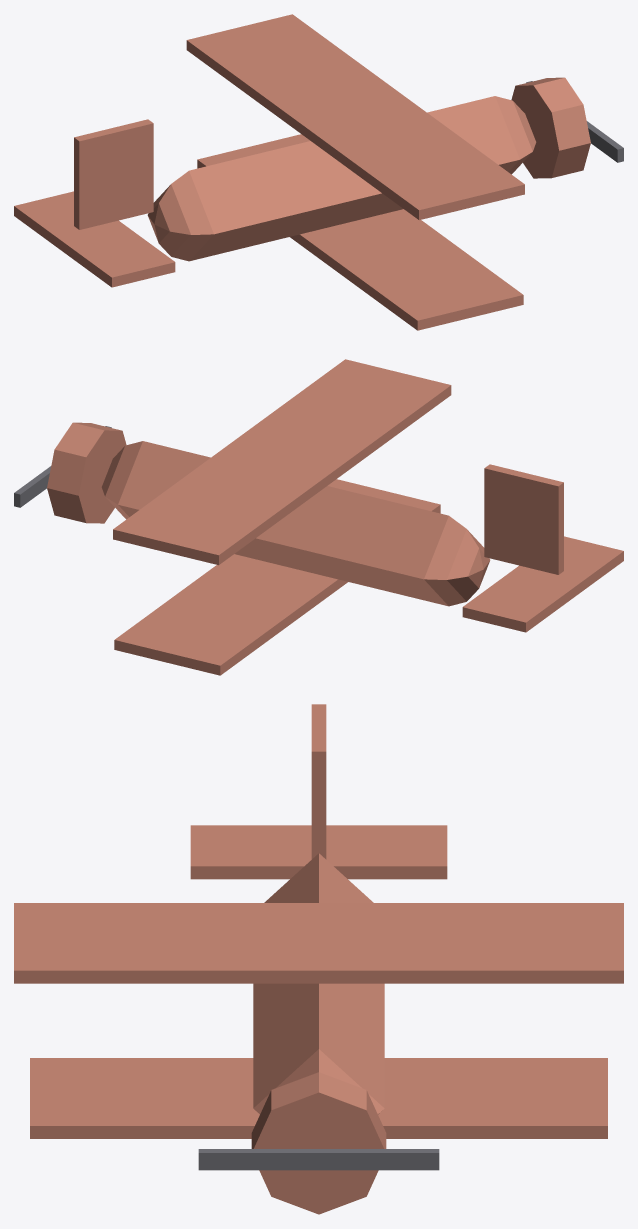
3 views of the same model, one above another, from view 1: azimuth 30°, elevation 25°; view 2: azimuth 150°, elevation 25°; view 3: azimuth 270°, elevation 25° (orthographic). The views are drawn at different scales.
Visible parts, largest first — view 1: part3, part0, part4, part6, part5, part1, part2; view 2: part3, part0, part4, part6, part5, part1, part2; view 3: part3, part4, part0, part5, part1, part2, part6.
Boxes of the visible parts, x1,y1,x2,y2 form: part3: (186,14,524,220); part0: (147,96,536,261); part4: (197,134,523,330); part6: (74,119,153,229); part5: (14,191,175,287); part1: (511,77,590,178); part2: (526,81,623,162); part3: (113,359,451,565); part0: (101,441,490,606); part4: (114,479,440,675); part6: (484,464,563,574); part5: (462,536,623,632); part1: (47,422,126,523); part2: (14,426,111,507); part3: (14,903,623,983); part4: (30,1058,607,1138); part0: (253,853,384,1114); part5: (190,825,447,879); part1: (251,1072,386,1214); part2: (198,1149,439,1170); part6: (311,704,326,859).
Bounding box in the file's own units: 4.86 × 1.51 × 3.8.
